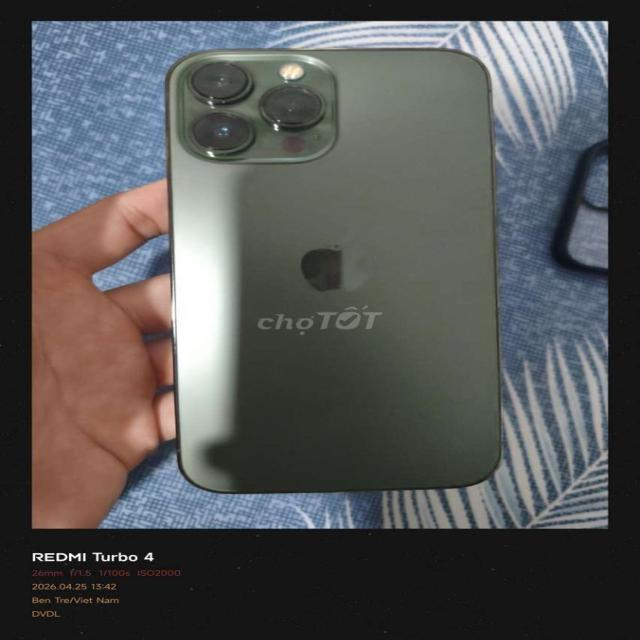gen_12_13: (152, 43, 538, 507)
